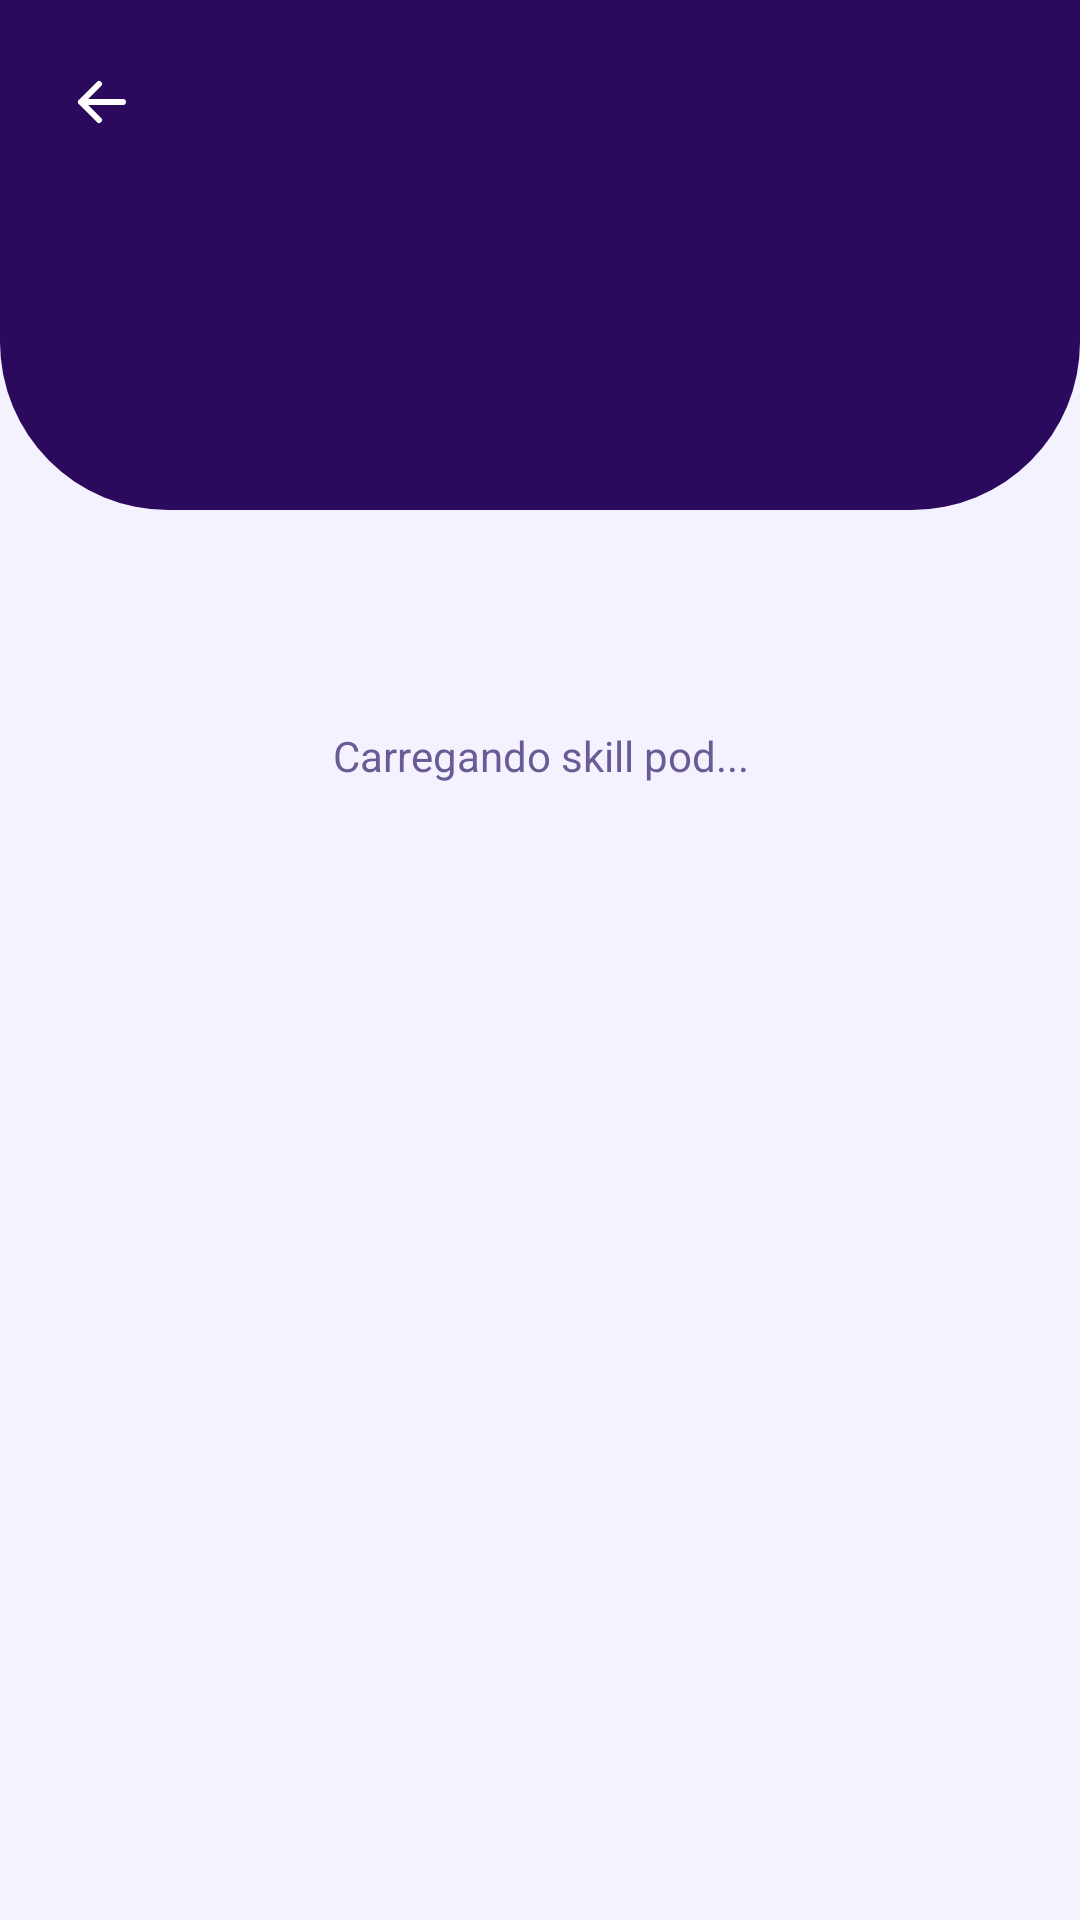

Where icons sit on this 1080px×1920px app screen, as (x1, y1, x2, y2):
Voltar: (78, 81, 126, 123)
